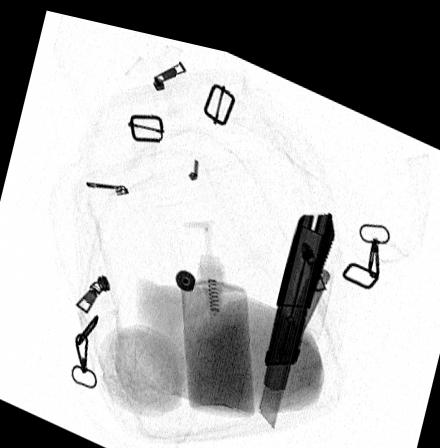Knife: (256, 198, 334, 415)
